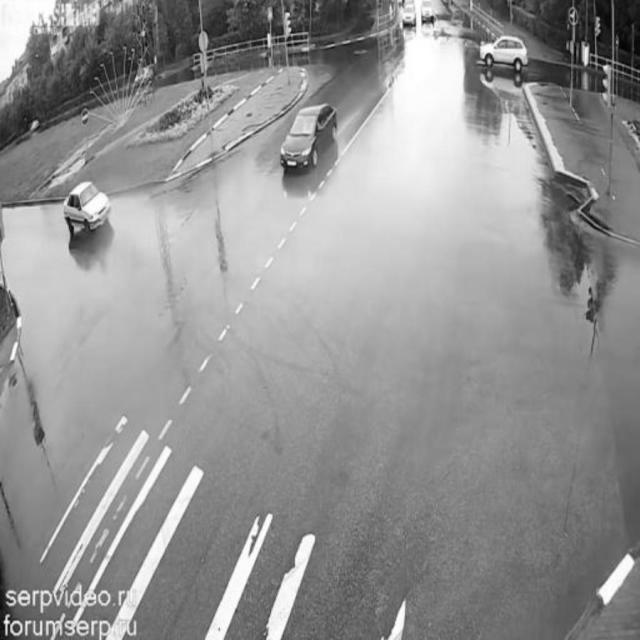vehicle: (281, 103, 339, 170), (61, 180, 111, 241), (484, 34, 529, 75), (398, 5, 423, 33), (417, 0, 438, 28)
